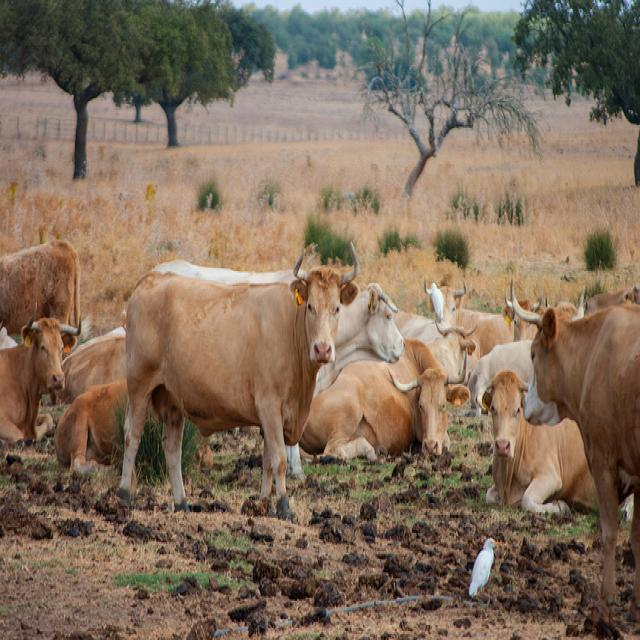cow: (118, 265, 346, 500), (509, 274, 639, 639), (152, 261, 401, 390), (299, 339, 468, 462), (481, 367, 599, 515), (0, 307, 81, 446), (52, 373, 126, 479), (422, 273, 513, 359), (3, 235, 79, 334), (465, 337, 531, 425), (48, 330, 126, 404), (423, 324, 476, 382), (391, 308, 446, 347)
